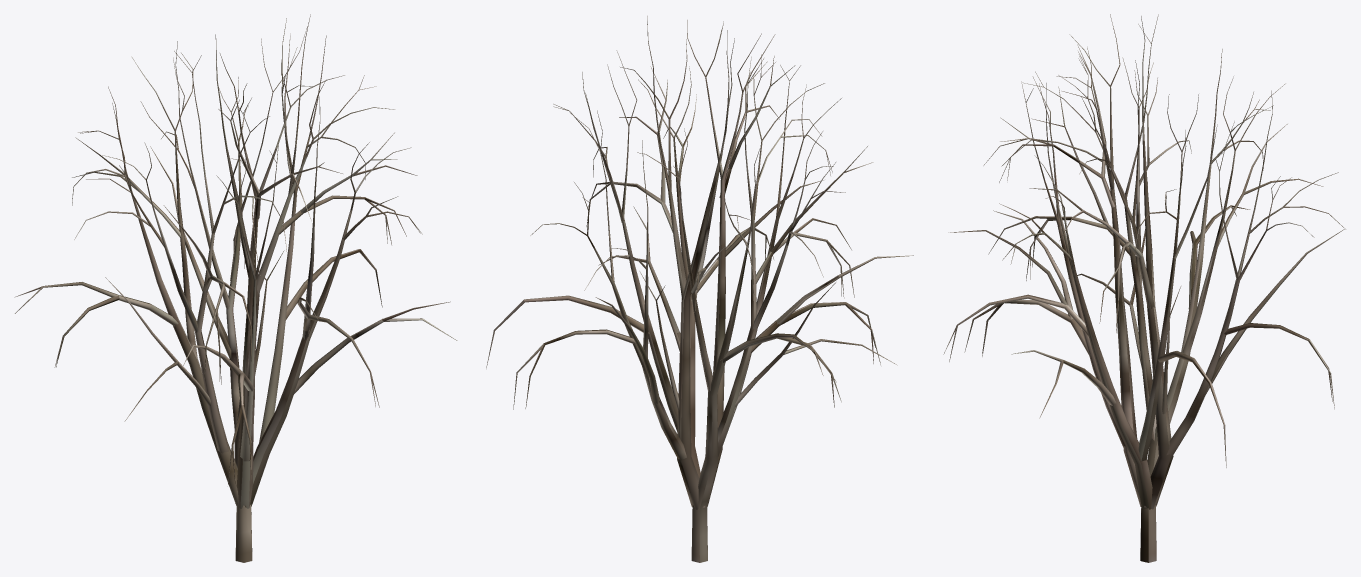
File: Trees-3-tex.fbx
The picture shows the model from 3 angles, left to right: view 1: azimuth 30°, elevation 25°; view 2: azimuth 150°, elevation 25°; view 3: azimuth 270°, elevation 25°; orthographic projection.
Parts seen in each view (by area): view 1: tree; view 2: tree; view 3: tree.
Boxes of the visible parts, x1,y1,x2,y2 form: tree: (14,14,457,562); tree: (486,16,913,562); tree: (943,14,1345,562).
Size of the model in its own units: 438 by 617 by 427.
